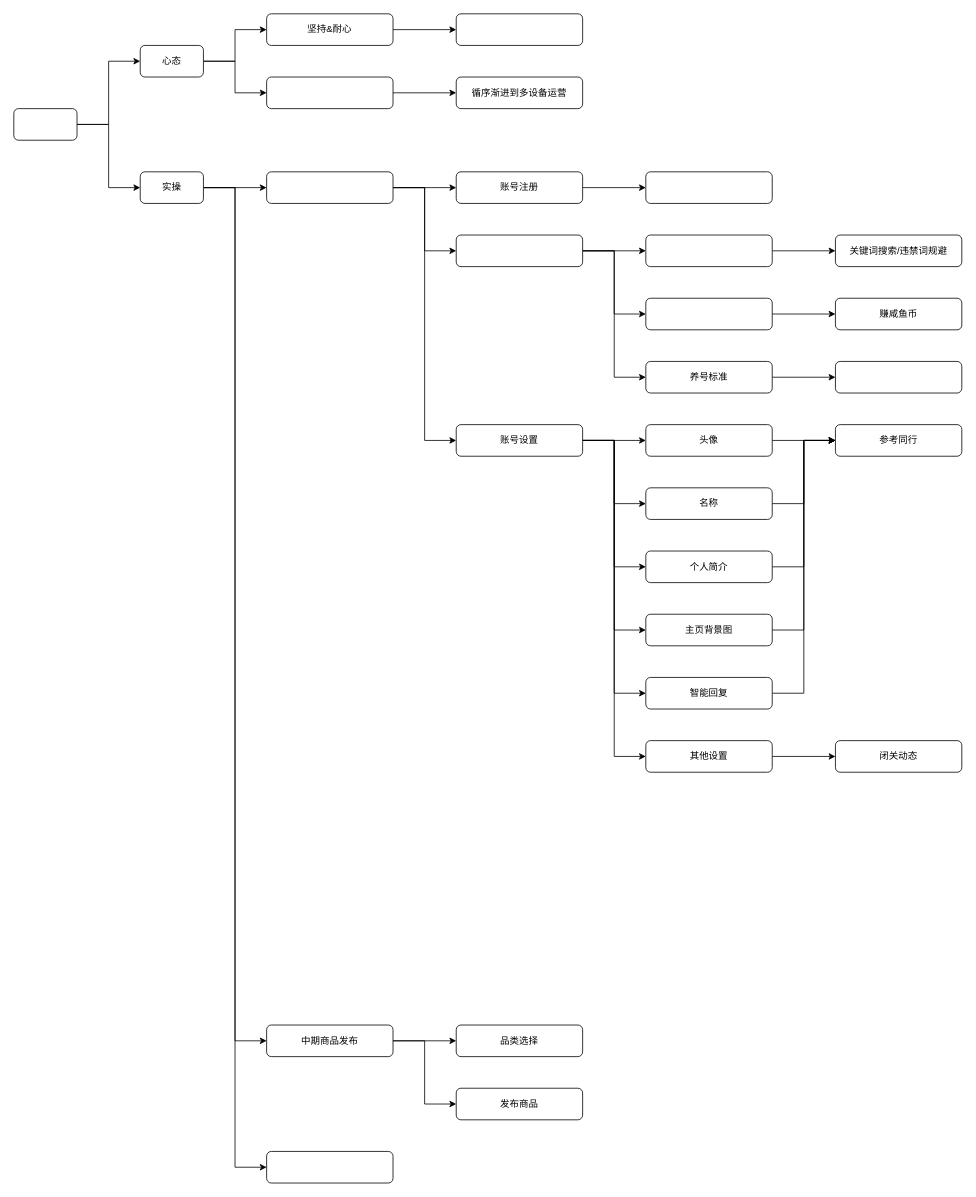
This 976x1197 diagram has some shape labels left out. Each missing label, with the centre of its shape:
前期准备工作: the point at 329,187
半屏是目标商品: the point at 898,377
后期运营推广: the point at 329,1167
咸鱼一手流量: the point at 45,124
在试错中成长: the point at 519,29
学习&准备: the point at 329,92
浏览商品: the point at 708,250
签到/小游戏: the point at 708,313
芝麻信任认证/不绑淘宝/老账号权重更高: the point at 708,187
闲鱼养号: the point at 519,250
